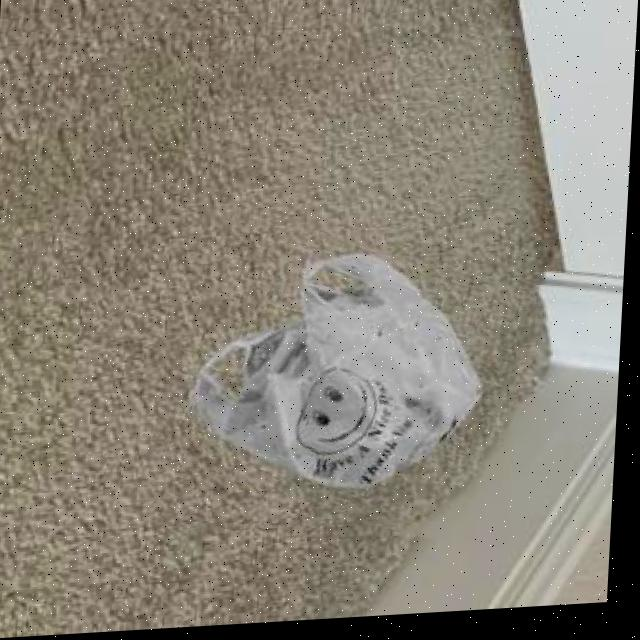litter: (159, 225, 525, 543)
